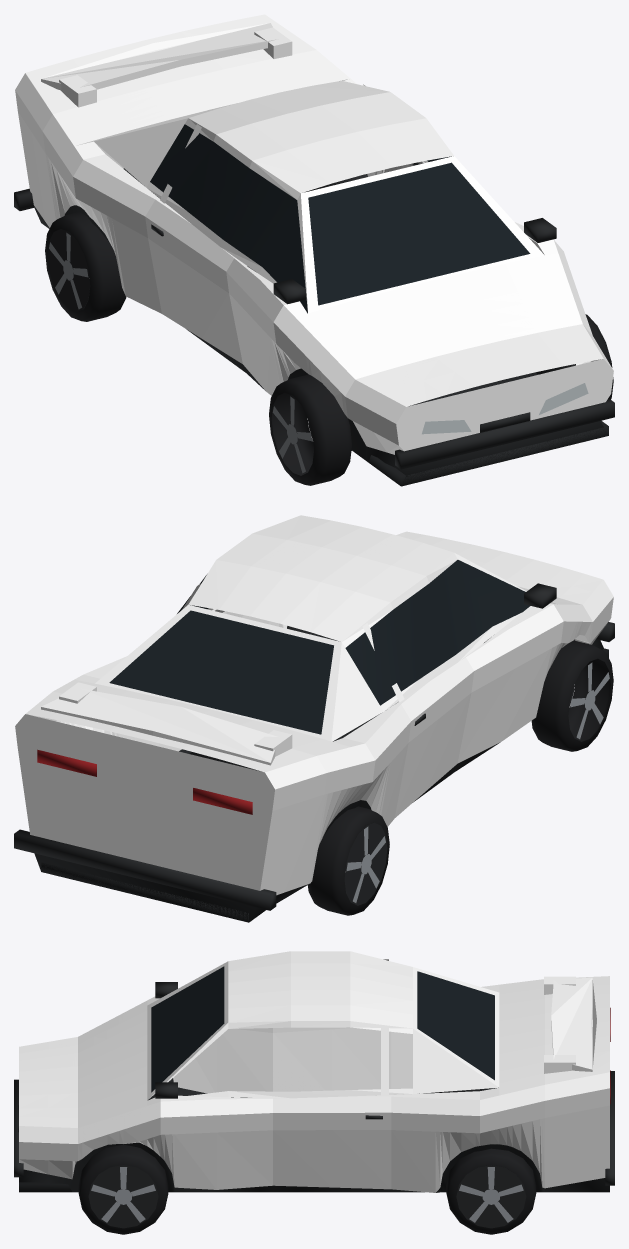
The model's file is mizuchi_fagulha.glb.
The picture shows the model from 3 angles, top to bottom: view 1: azimuth 30°, elevation 25°; view 2: azimuth 150°, elevation 25°; view 3: azimuth 270°, elevation 25°; orthographic projection. The views are drawn at different scales.
Parts seen in each view (by area): view 1: Body_Paint, Body_Details, Mount_FrontLeft_Wheel_Details, Mount_RearLeft_Wheel_Details; view 2: Body_Paint, Body_Details, Mount_FrontLeft_Wheel_Details, Mount_RearLeft_Wheel_Details; view 3: Body_Paint, Body_Details, Mount_FrontRight_Wheel_Details, Mount_RearRight_Wheel_Details.
Part boxes in pixels (x1=…): Body_Paint: x1=15, y1=14, x2=613, y2=454; Body_Details: x1=14, y1=124, x2=614, y2=486; Mount_FrontLeft_Wheel_Details: x1=269, y1=374, x2=351, y2=485; Mount_RearLeft_Wheel_Details: x1=45, y1=212, x2=126, y2=321; Body_Paint: x1=15, y1=515, x2=613, y2=895; Body_Details: x1=14, y1=560, x2=614, y2=922; Mount_FrontLeft_Wheel_Details: x1=531, y1=640, x2=613, y2=751; Mount_RearLeft_Wheel_Details: x1=307, y1=806, x2=389, y2=915; Body_Paint: x1=19, y1=951, x2=609, y2=1192; Body_Details: x1=14, y1=966, x2=614, y2=1192; Mount_FrontRight_Wheel_Details: x1=78, y1=1144, x2=168, y2=1234; Mount_RearRight_Wheel_Details: x1=446, y1=1148, x2=536, y2=1234.
Size of the model in its own units: 1.63 by 1.22 by 3.41.
2 materials, 1 textured.
